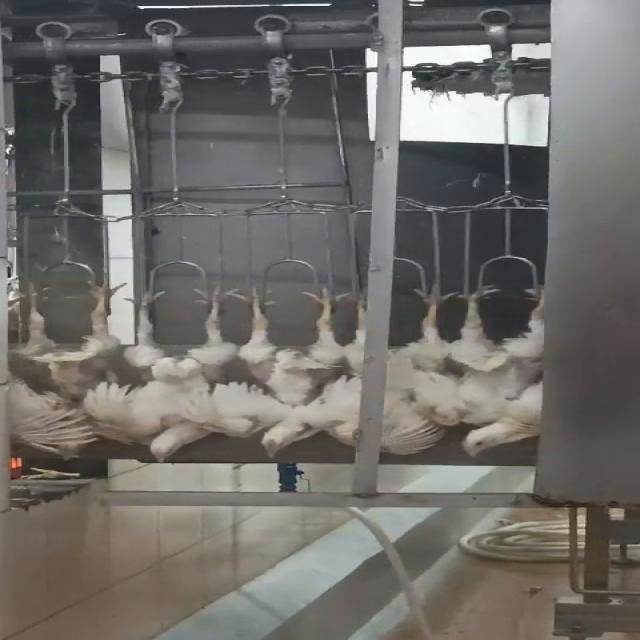chicken: (0, 278, 144, 460), (112, 284, 253, 464), (226, 285, 360, 462), (436, 280, 552, 457), (382, 284, 464, 454)
